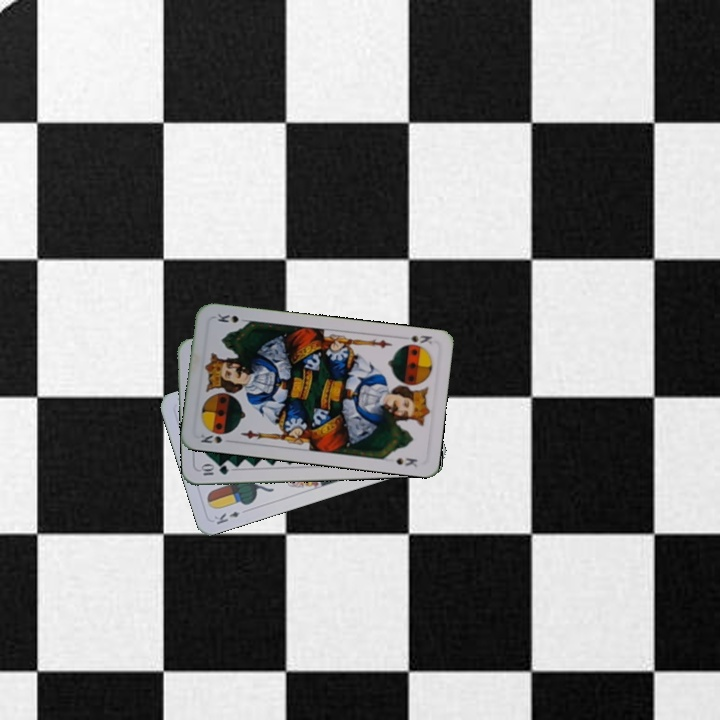EK: (210, 507, 242, 527)
G10: (197, 461, 231, 478)
SK: (197, 427, 234, 446), (397, 331, 435, 347)
